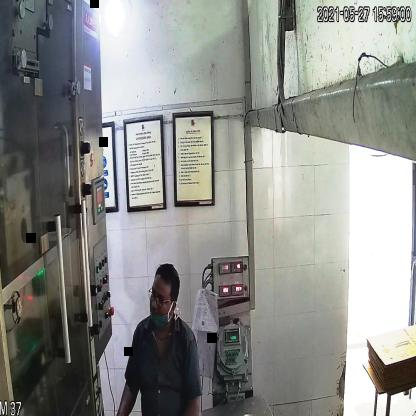goggles: (145, 281, 179, 309)
